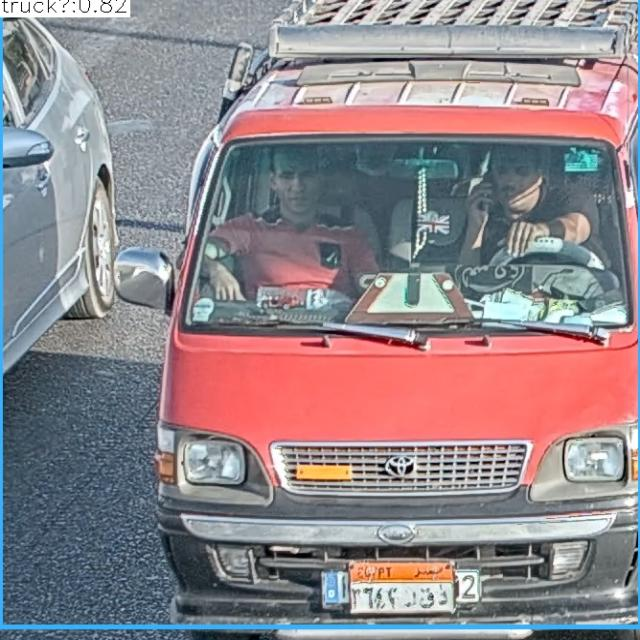windshield: (181, 138, 623, 334)
